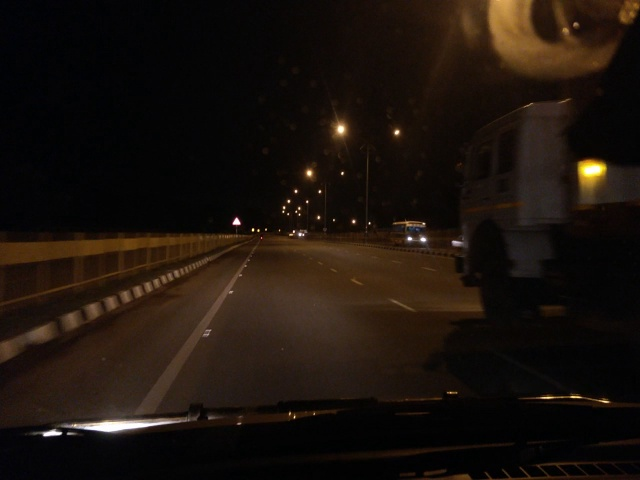bus: (385, 216, 437, 247)
car: (292, 229, 307, 240)
truck: (450, 94, 640, 333)
